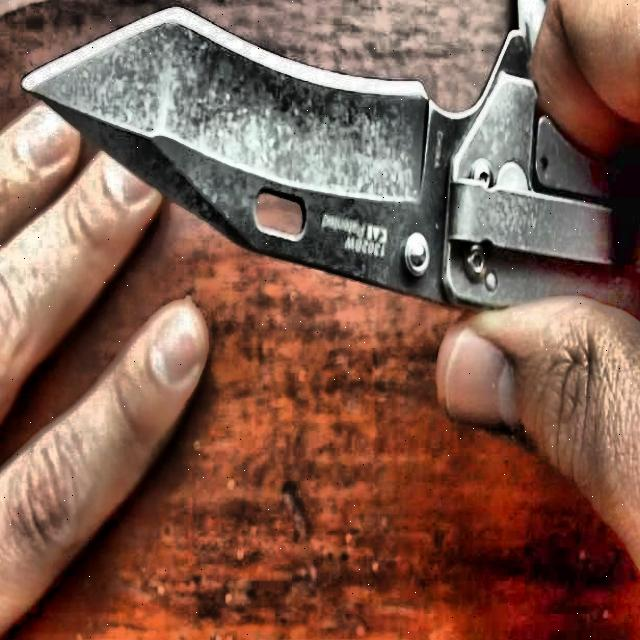knife: (21, 8, 640, 319)
